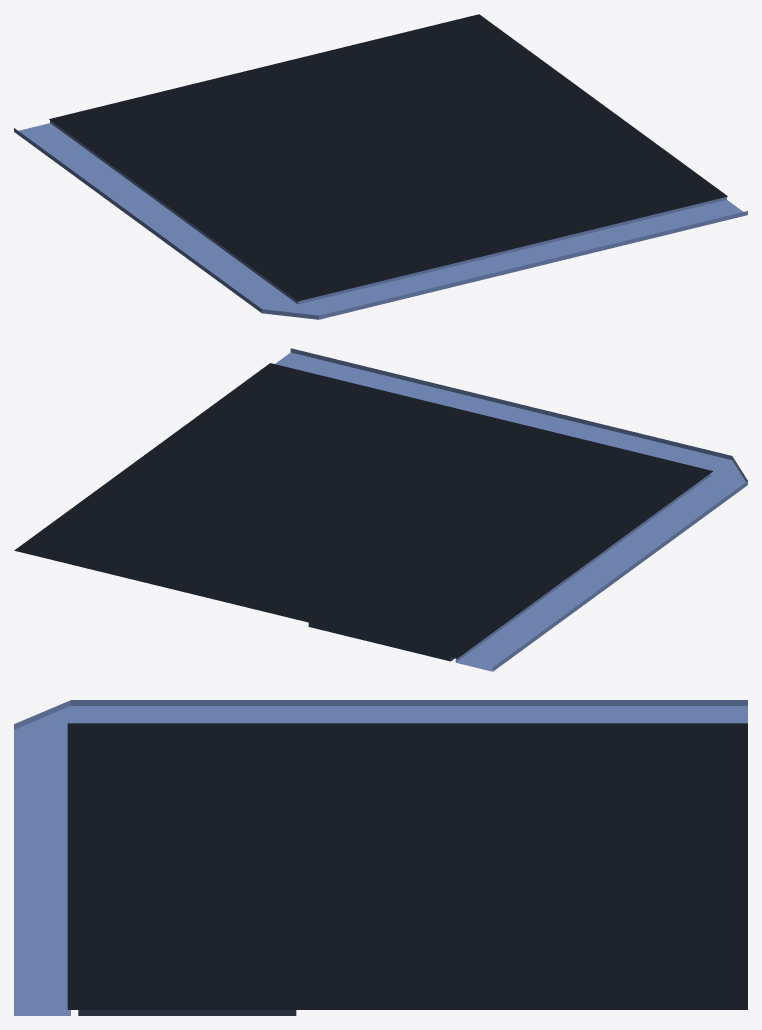
The model's file is sidewalk3.FBX.
3 renders of one model, top to bottom at view 1: azimuth 30°, elevation 25°; view 2: azimuth 150°, elevation 25°; view 3: azimuth 270°, elevation 25°, orthographic. The views are drawn at different scales.
Parts seen in each view (by area): view 1: sidewalk3; view 2: sidewalk3; view 3: sidewalk3.
Part boxes in pixels (x1,y1,x2,y2): sidewalk3: (14,14,747,319); sidewalk3: (14,348,747,671); sidewalk3: (14,700,747,1015).
Size of the model in its own units: 25.02 by 0.216 by 25.04.
